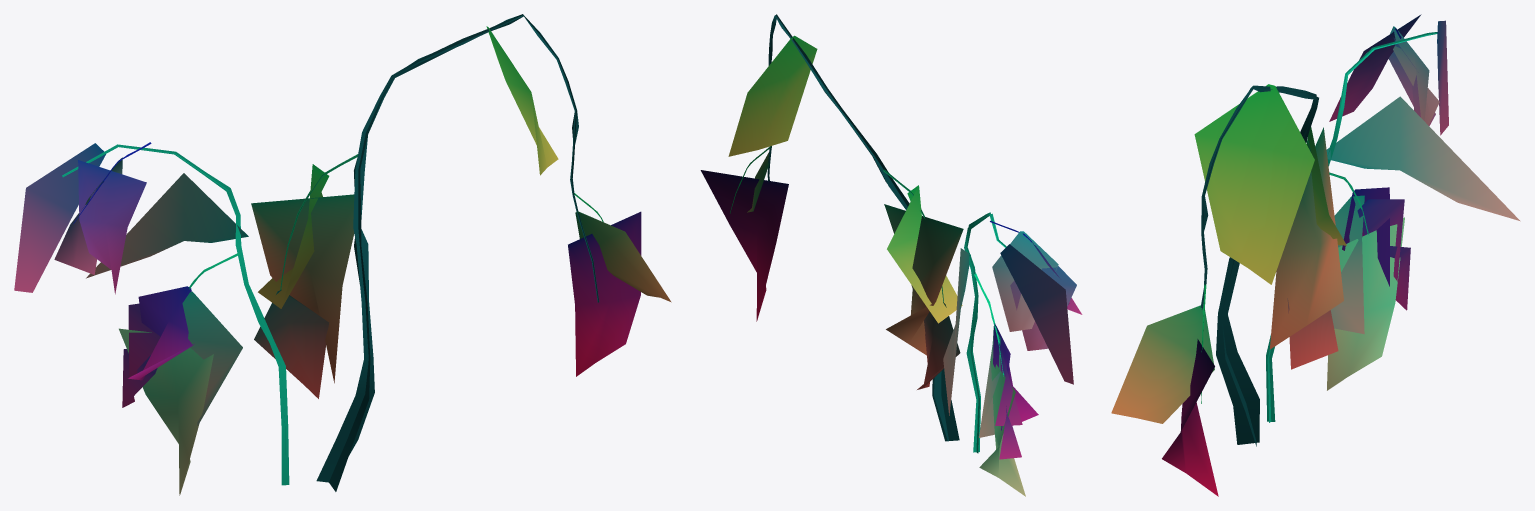
Rendered from Creeping_Saltbush_thckfiqr_Mid_thckfiqr_VarE_LOD0.fbx.
The picture shows the model from 3 angles, left to right: view 1: azimuth 30°, elevation 25°; view 2: azimuth 150°, elevation 25°; view 3: azimuth 270°, elevation 25°; orthographic projection. The views are drawn at different scales.
Parts seen in each view (by area): view 1: _5764_VarE_LOD1; view 2: _5764_VarE_LOD1; view 3: _5764_VarE_LOD1.
Part boxes in pixels (bbox=[...]): _5764_VarE_LOD1: bbox=[14, 14, 671, 495]; _5764_VarE_LOD1: bbox=[700, 14, 1082, 496]; _5764_VarE_LOD1: bbox=[1111, 14, 1520, 496].
Size of the model in its own units: 21.24 by 16.89 by 13.36.
